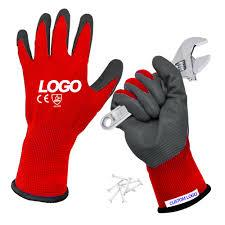Gloves: (7, 4, 120, 209), (109, 47, 215, 213)
